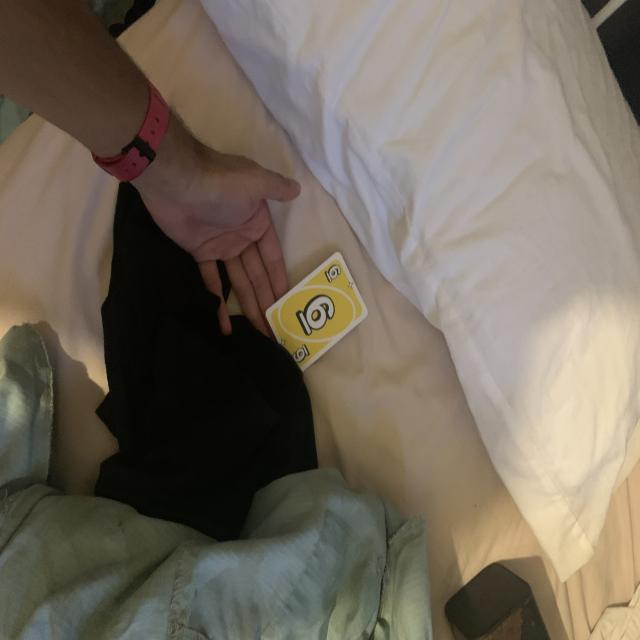lyellow-6: (323, 263, 342, 285)
